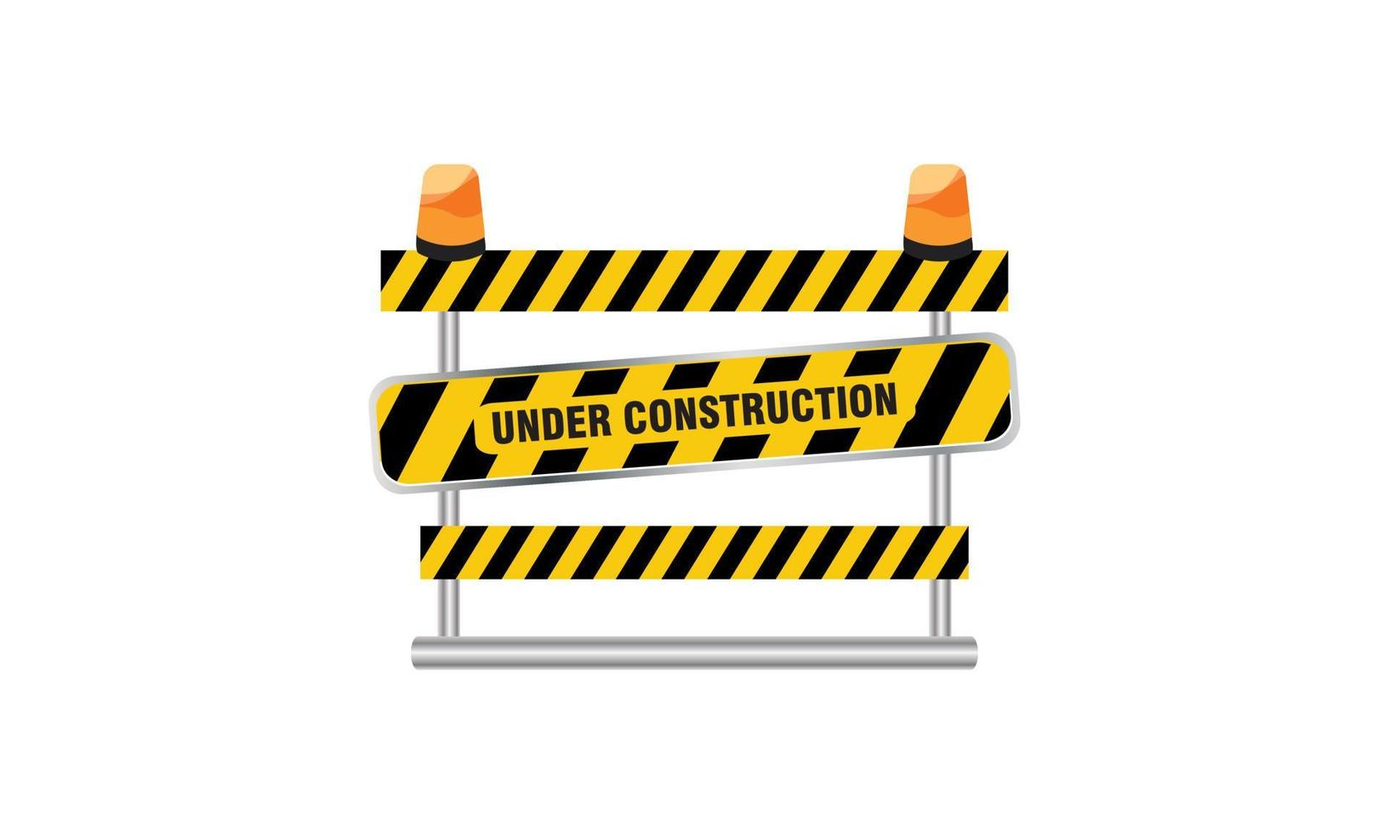Barrier: (344, 134, 1116, 723)
